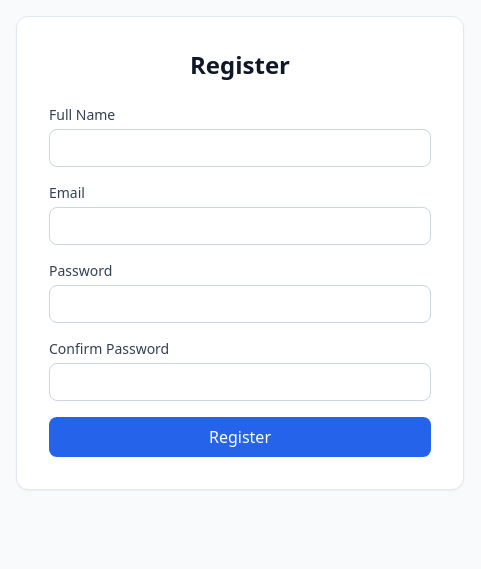
Test: auth pages red alerts › renders red alert when register fails for duplicate email
Type "Alice Employee" into the field named "Full Name" at (240, 148), box [49,129,431,167]
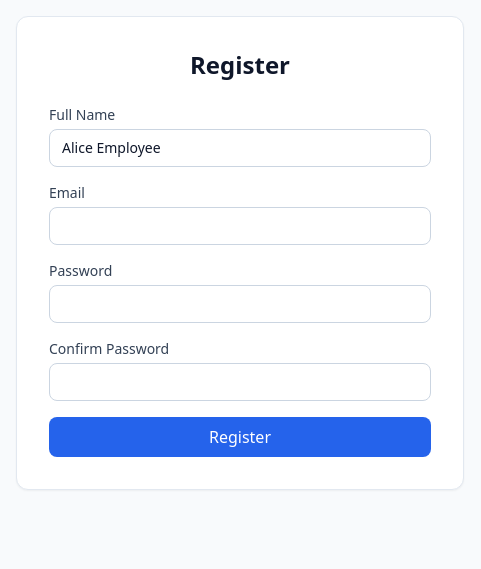
Type "employee@epam.com" into the field named "Email" at (240, 226), box [49,207,431,245]
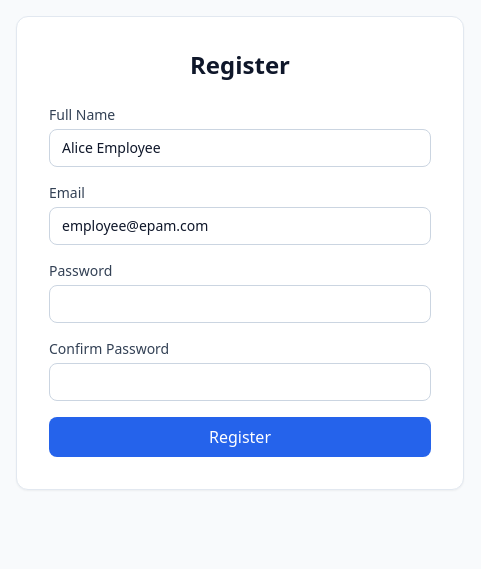
Type "StrongPass123!" into the password field named "Password" at (240, 304), box [49,285,431,323]
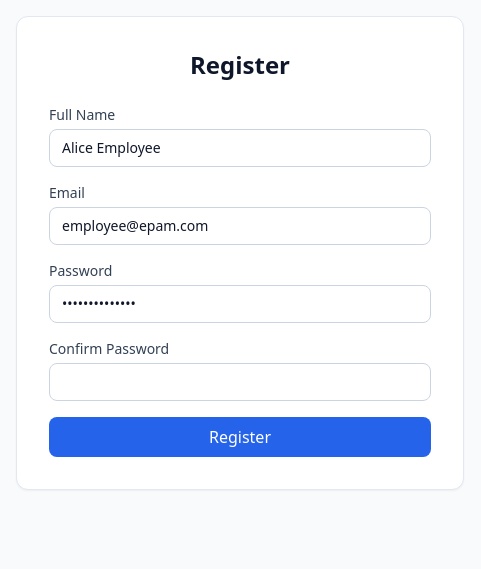
Type "StrongPass123!" into the password field named "Confirm Password" at (240, 382), box [49,363,431,401]
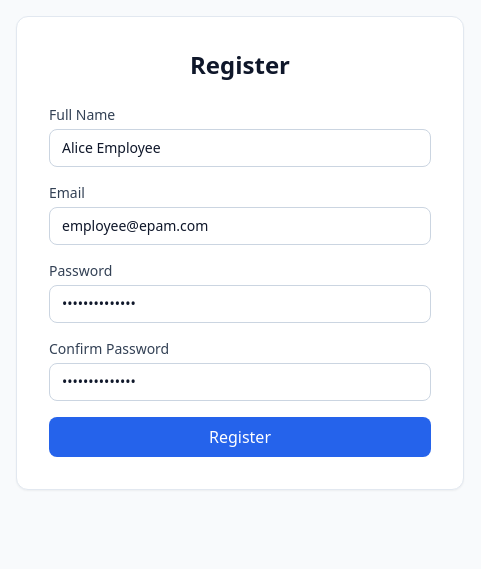
Submit the form, box [49,105,431,457]
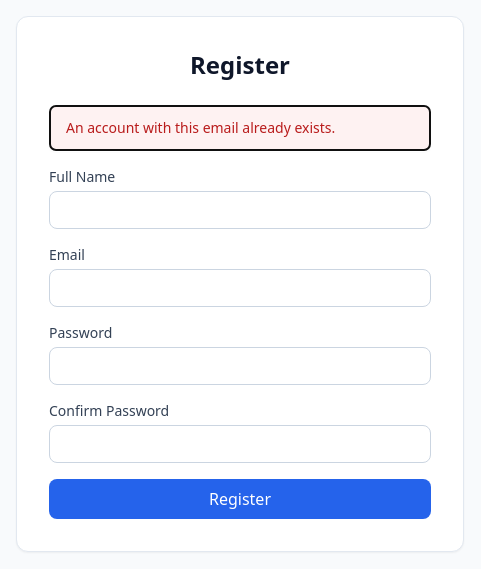
Check: the message "An account with this email already exists." is shown, box [49,105,431,151]
